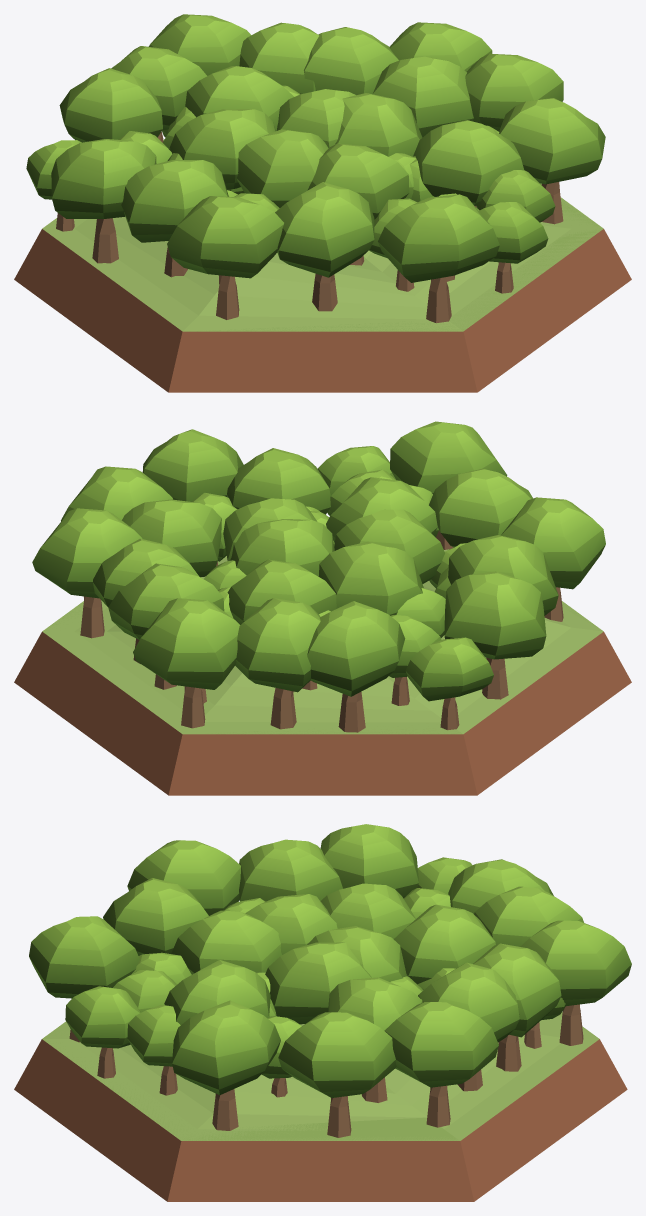
The model's file is hex_tiles.glb.
3 views of the same model, one above another, from view 1: azimuth 30°, elevation 25°; view 2: azimuth 150°, elevation 25°; view 3: azimuth 270°, elevation 25° (orthographic).
Parts seen in each view (by area): view 1: Forest.001, Hills.001, Grass.001; view 2: Forest.001, Hills.001, Grass.001; view 3: Forest.001, Hills.001, Grass.001.
Part boxes in pixels (<box>): Forest.001: <box>26,14,605,323</box>; Hills.001: <box>14,139,631,392</box>; Grass.001: <box>46,184,602,331</box>; Forest.001: <box>32,421,605,732</box>; Hills.001: <box>14,549,631,795</box>; Grass.001: <box>43,602,596,734</box>; Forest.001: <box>29,824,631,1137</box>; Hills.001: <box>14,1012,627,1201</box>; Grass.001: <box>44,1012,597,1140</box>.
Size of the model in its own units: 19.92 by 6.56 by 22.15.
1 material, 1 textured.
